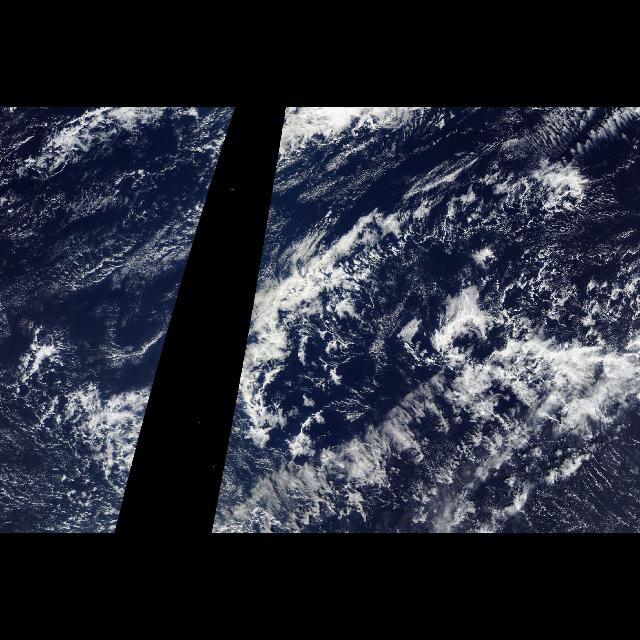Fish: (326, 172, 592, 284)
Gravel: (283, 209, 492, 435)
Sugar: (4, 120, 216, 376), (466, 428, 640, 530)
